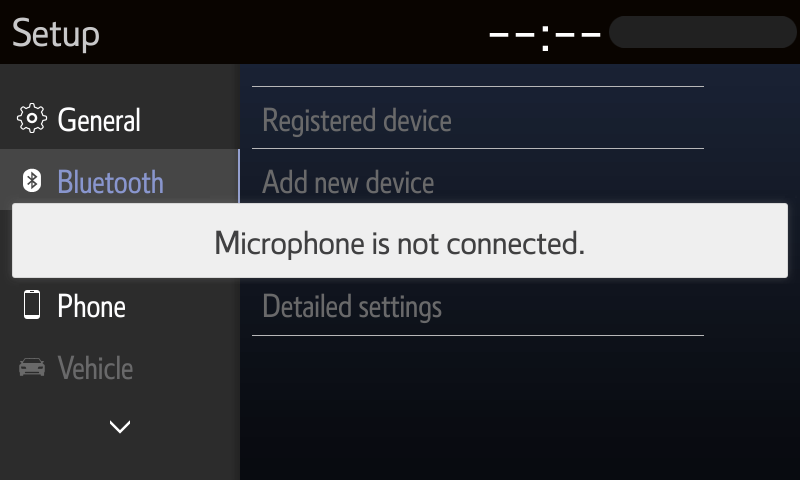touchPart: (14, 283, 152, 328), (13, 98, 151, 134), (89, 417, 155, 445)
untouchPart: (248, 79, 710, 155), (245, 274, 704, 342), (249, 141, 706, 209), (1, 143, 240, 215), (481, 6, 798, 57), (17, 344, 148, 396), (12, 12, 105, 57)
